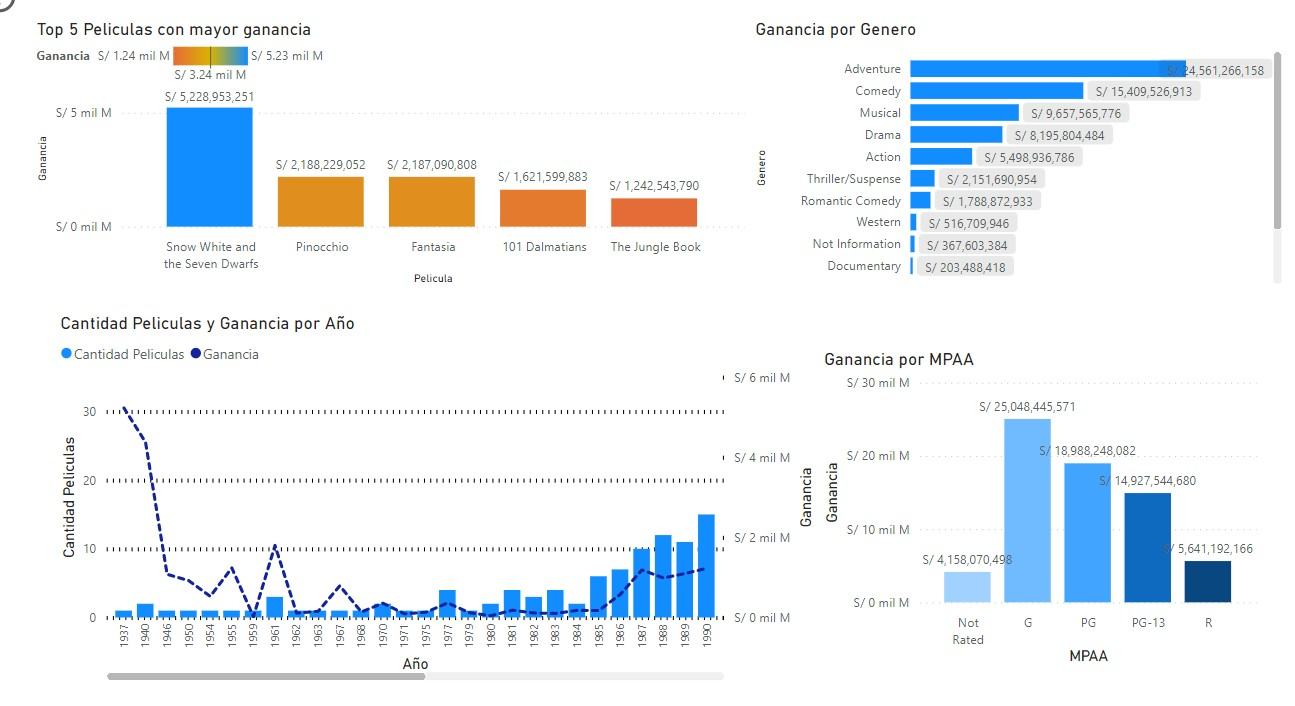

The dashboard page shown, as its layout file describes it:
{"tool":"powerbi","page":{"name":"Página 1","canvas":[1280,720],"ordinal":0},"visuals":[{"type":"actionButton","box":[0,0,100,40],"z":0},{"type":"lineStackedColumnComboChart","fields":{"Category":["disney_movies.release_date.Variación.Jerarquía de fechas.Año"],"Y2":["Sum(disney_movies.inflation_adjusted_gross)"],"Y":["CountNonNull(disney_movies.movie_title)"]},"box":[73.6,324.4,736.9,360.6],"z":1000},{"type":"columnChart","title":"Top 5 Peliculas con mayor ganancia","fields":{"Category":["disney_movies.movie_title"],"Y":["Sum(disney_movies.inflation_adjusted_gross)"]},"box":[50.6,40.5,693.3,261.5],"z":2000},{"type":"clusteredBarChart","fields":{"Category":["disney_movies.genre"],"Y":["Sum(disney_movies.inflation_adjusted_gross)"]},"box":[743.8,40.7,518.1,261],"z":3000},{"type":"columnChart","fields":{"Category":["disney_movies.mpaa_rating"],"Y":["Sum(disney_movies.inflation_adjusted_gross)"]},"box":[810.7,359.4,427.6,309.6],"z":4000}]}

Visuals, with their boxes on the page's 1280x720 design canvas (x1, y1, x2, y2). These are canvas units, not pixel positions in the 1295x706 screenshot, which may show the page scaled, cropped or inside an application window:
actionButton: bbox(0, 0, 100, 40)
lineStackedColumnComboChart - disney_movies.release_date.Variación.Jerarquía de fechas.Año x Sum(disney_movies.inflation_adjusted_gross): bbox(74, 324, 810, 685)
"Top 5 Peliculas con mayor ganancia" columnChart: bbox(51, 40, 744, 302)
clusteredBarChart - disney_movies.genre x Sum(disney_movies.inflation_adjusted_gross): bbox(744, 41, 1262, 302)
columnChart - disney_movies.mpaa_rating x Sum(disney_movies.inflation_adjusted_gross): bbox(811, 359, 1238, 669)
